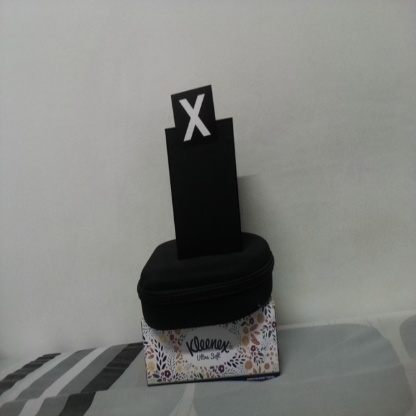id_13: (171, 92, 217, 147)
